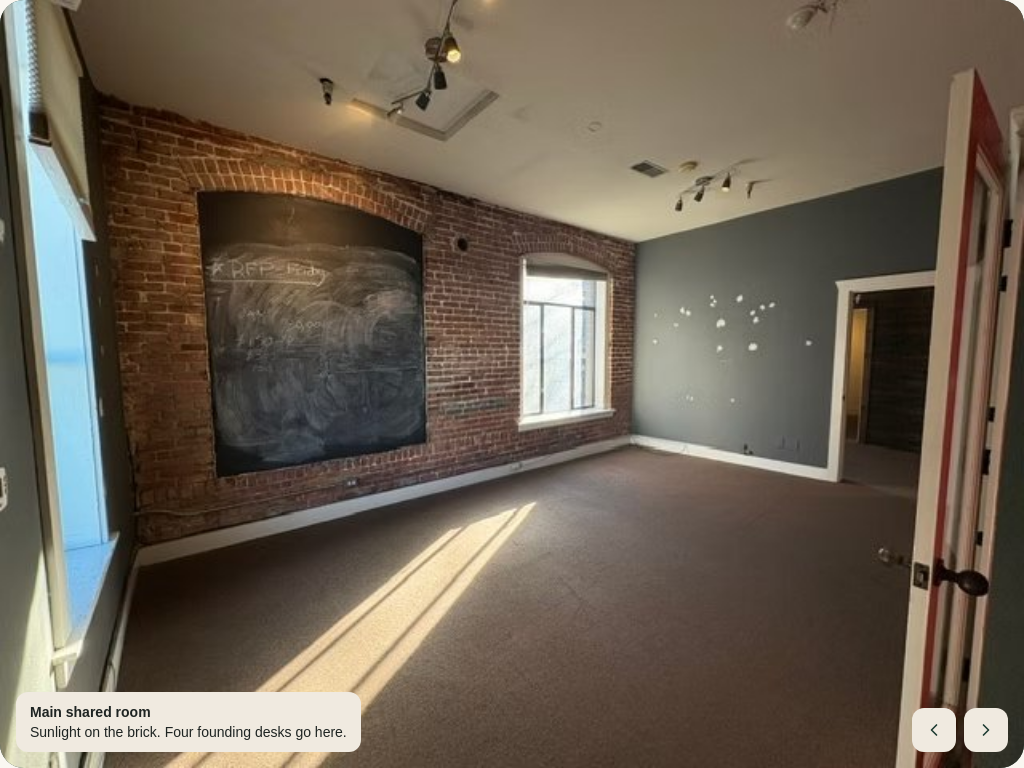
HeroCarousel swipe › moves one photo per horizontal flick, like a native pager
The width and height of the screenshot is (1024, 768).
Press the mouse on the element named "Photos of 819 Pacific Ave" at (512,384), box left=0, top=0, right=1023, bottom=767
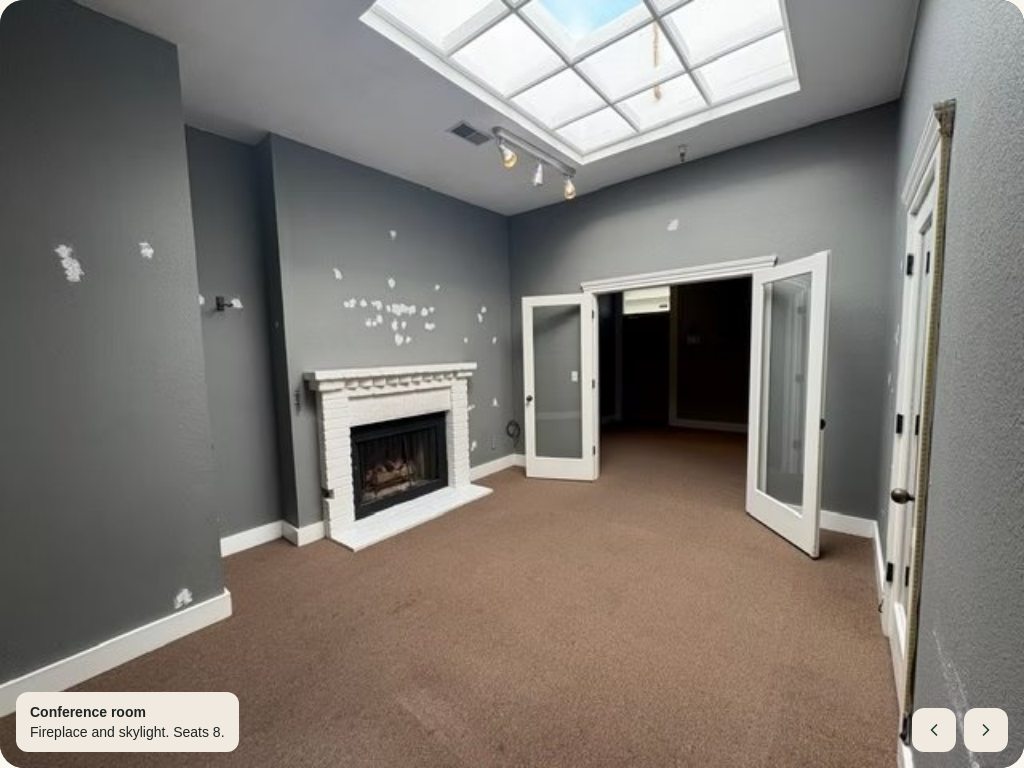
Expected: the text "Conference room" is shown, left=30, top=704, right=146, bottom=720
Press the mouse on the element named "Photos of 819 Pacific Ave" at (512,384), box left=0, top=0, right=1023, bottom=767
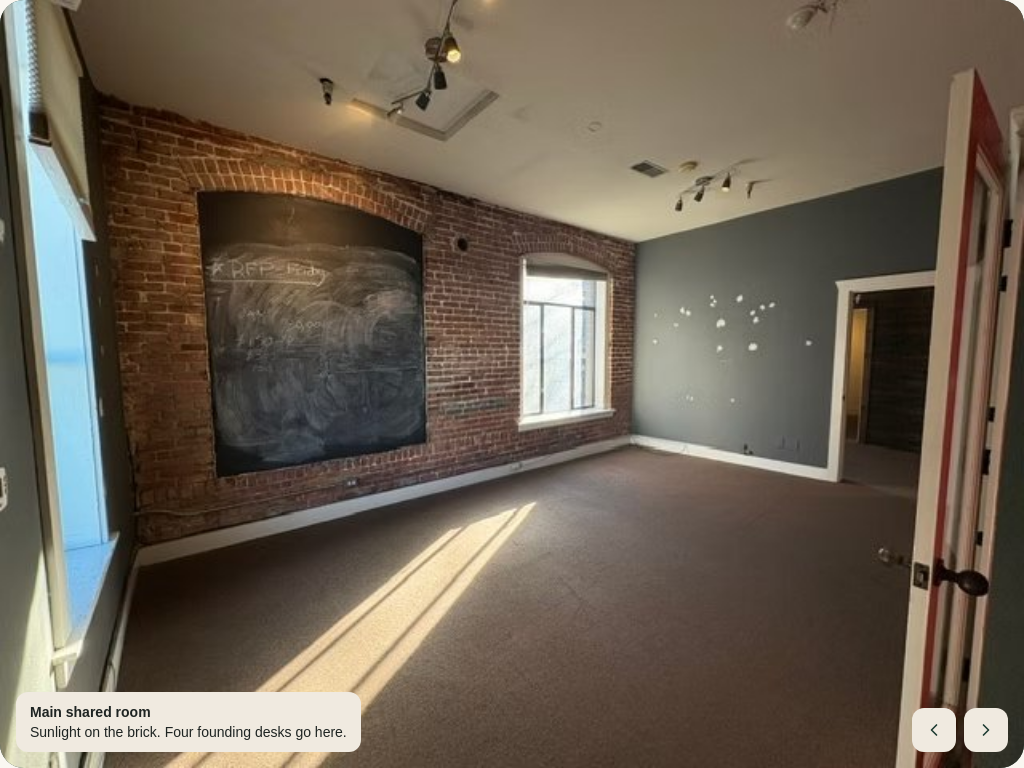
Expected: the text "Main shared room" is shown, left=30, top=704, right=151, bottom=720
